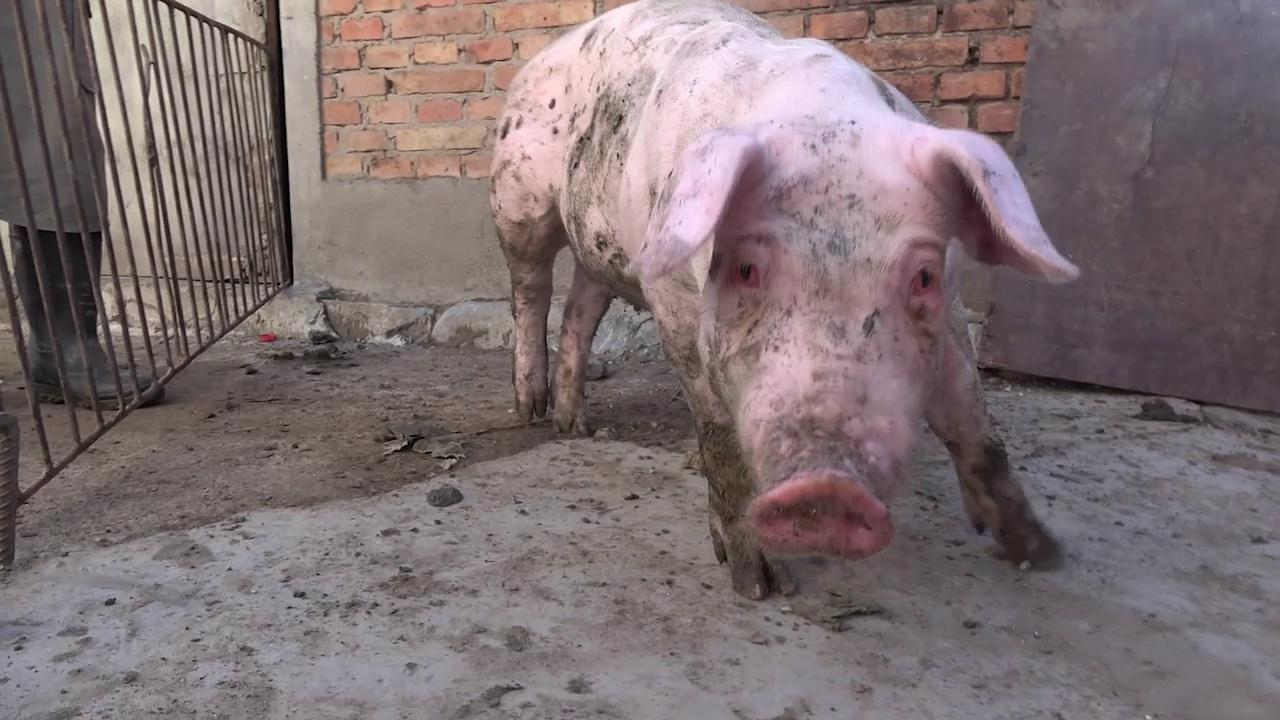Face: (637, 113, 1087, 573)
